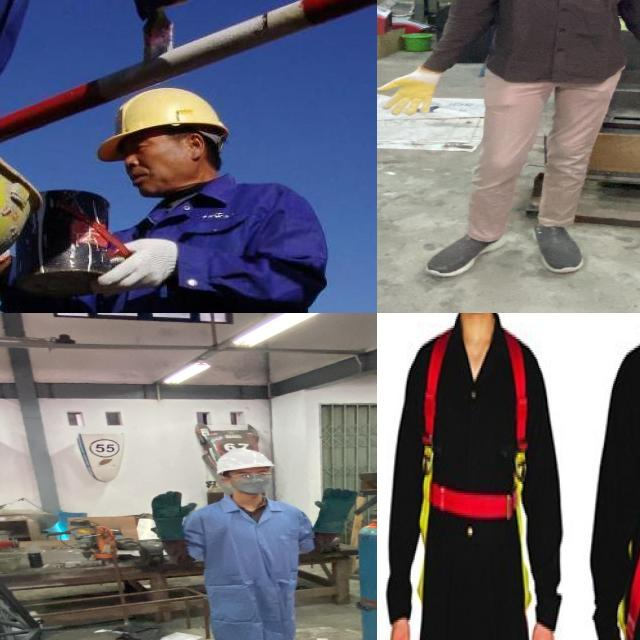Harness: (420, 316, 529, 640)
face_mask: (230, 468, 278, 496)
face_nomask: (113, 137, 157, 191)
glasses: (223, 470, 275, 482)
hand_glove: (95, 235, 179, 296), (377, 67, 445, 118), (146, 489, 200, 526), (312, 486, 366, 521)
head_helmet: (91, 84, 232, 157), (210, 446, 280, 474)
person: (377, 0, 640, 286), (63, 67, 323, 313), (144, 446, 372, 640)
shoes: (416, 223, 516, 280), (521, 219, 587, 276)
